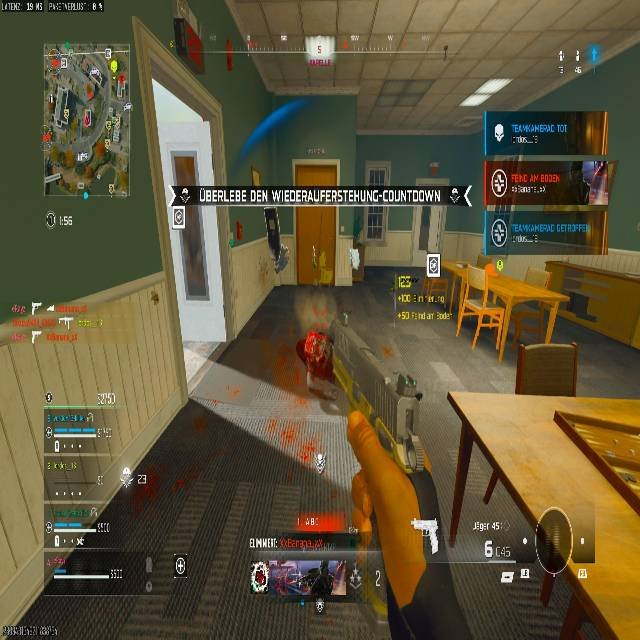player: (304, 561, 334, 616)
